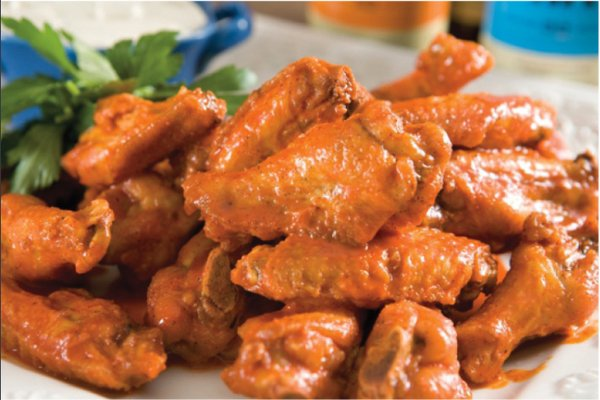curry: (1, 4, 255, 197)
